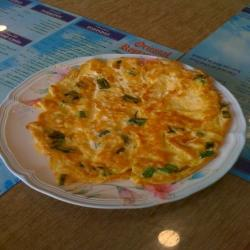omelette: (40, 58, 233, 189)
